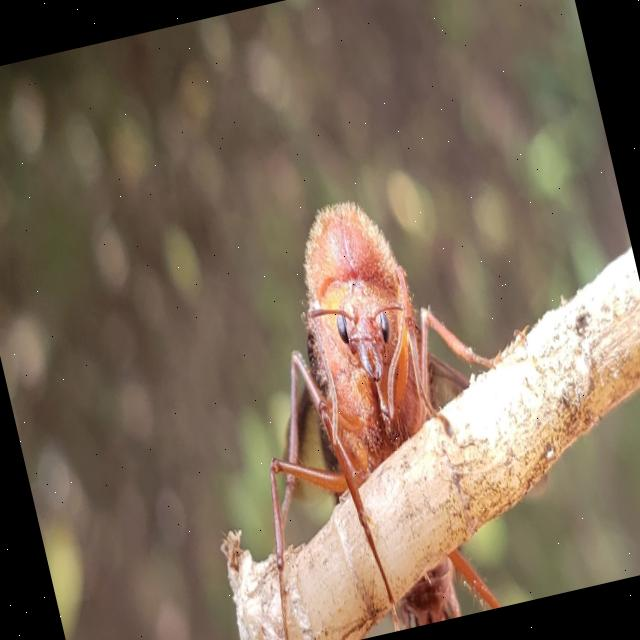Dead-Male-Alate: (163, 165, 589, 640)
